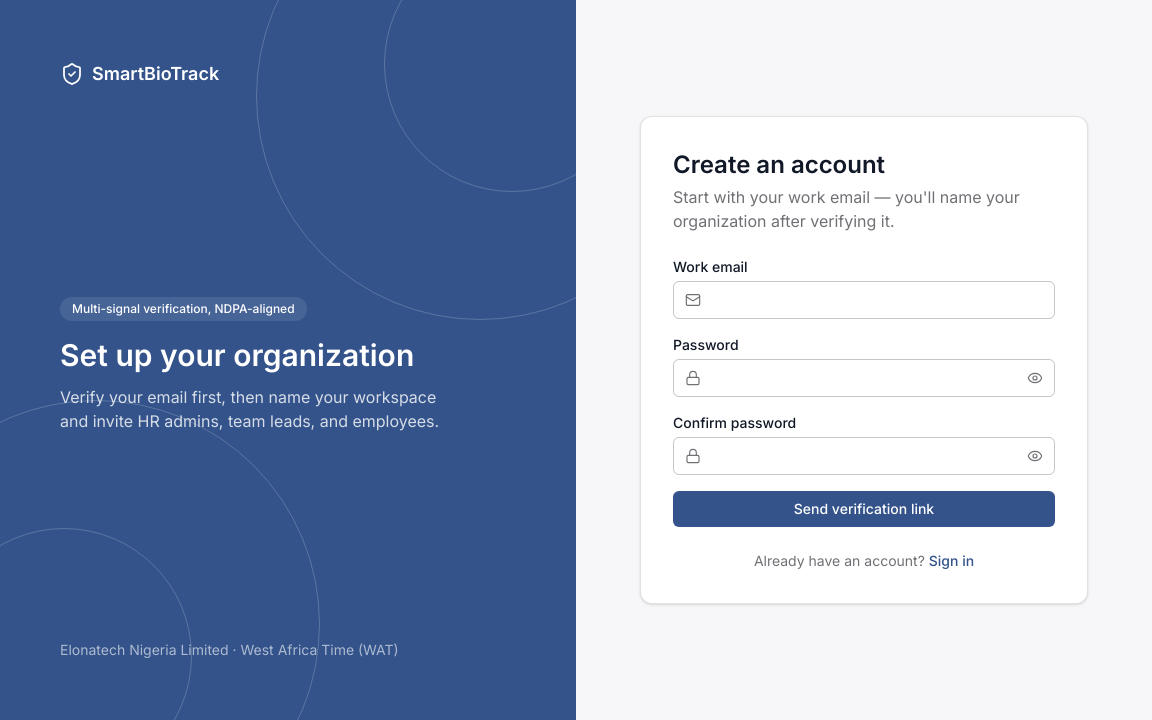
Test case: when the address is already taken › shows the server’s wording rather than a generic failure
Type "founder@acme.test" into the field labelled "Work email" at [864, 300], box x1=673 y1=281 x2=1055 y2=319
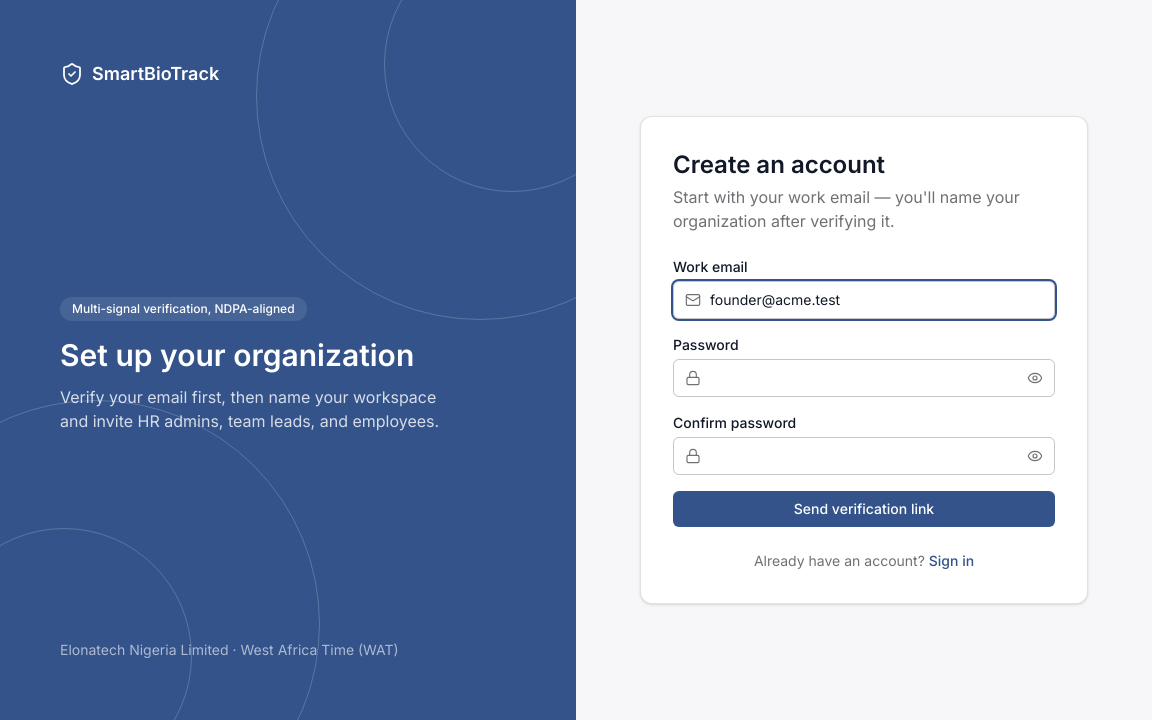
Type "Passw0rd!x" into the password field labelled "Password" at [864, 378], box x1=673 y1=359 x2=1055 y2=397
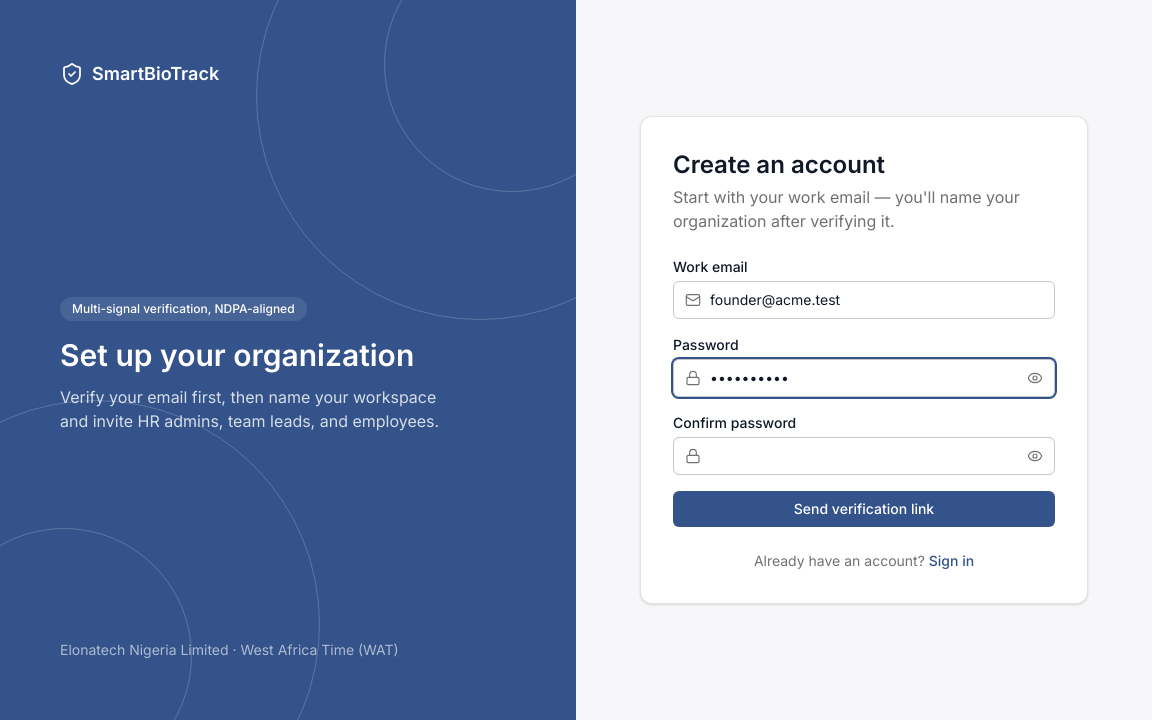
Type "Passw0rd!x" into the password field labelled "Confirm password" at [864, 456], box x1=673 y1=437 x2=1055 y2=475
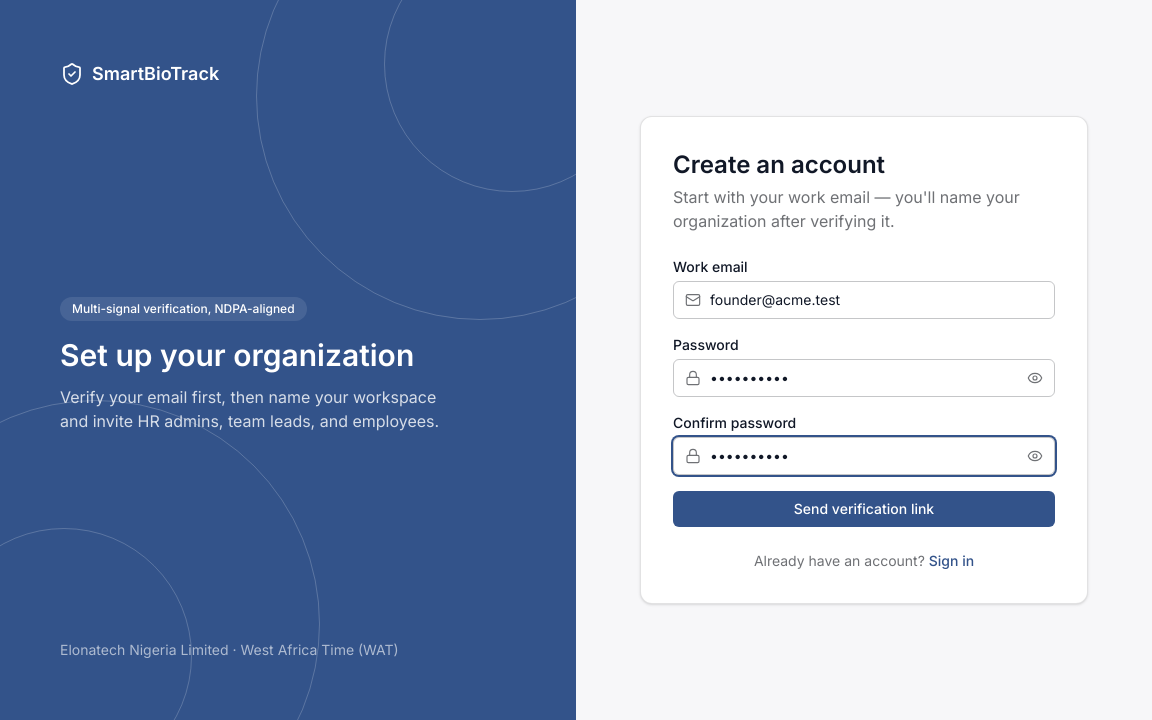
Click the button "Send verification link" at [864, 509], box x1=673 y1=491 x2=1055 y2=527
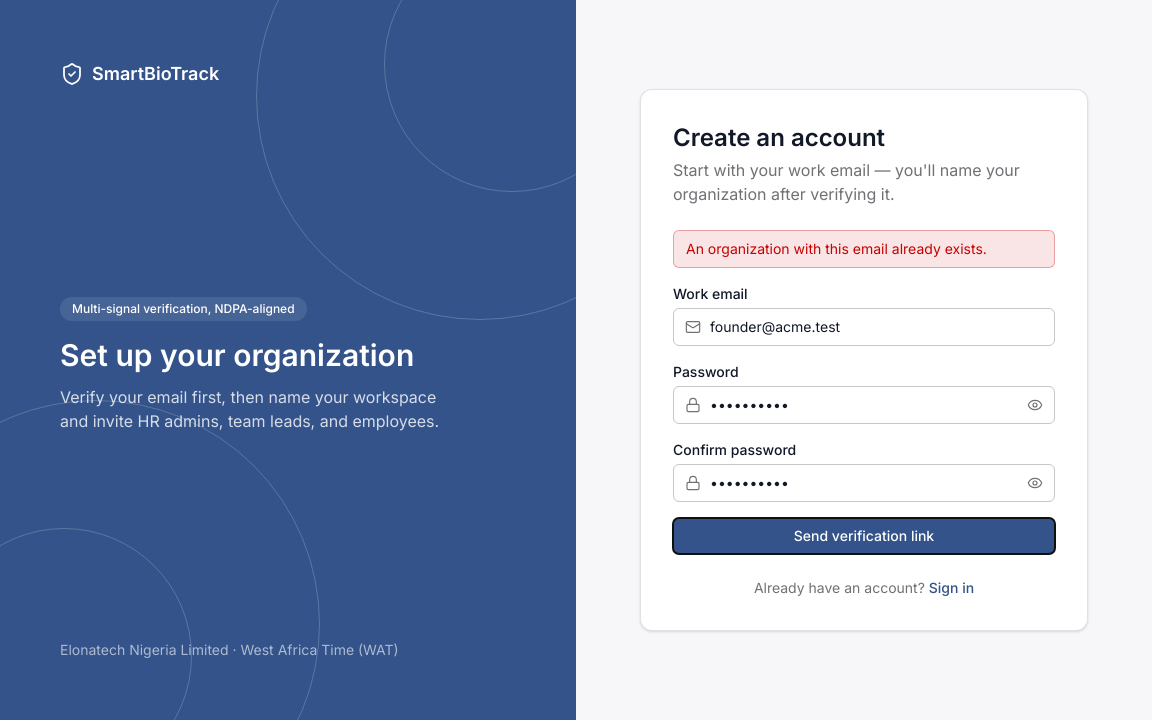
Now the text "An organization with this email already exists." is shown, box x1=673 y1=230 x2=1055 y2=268
